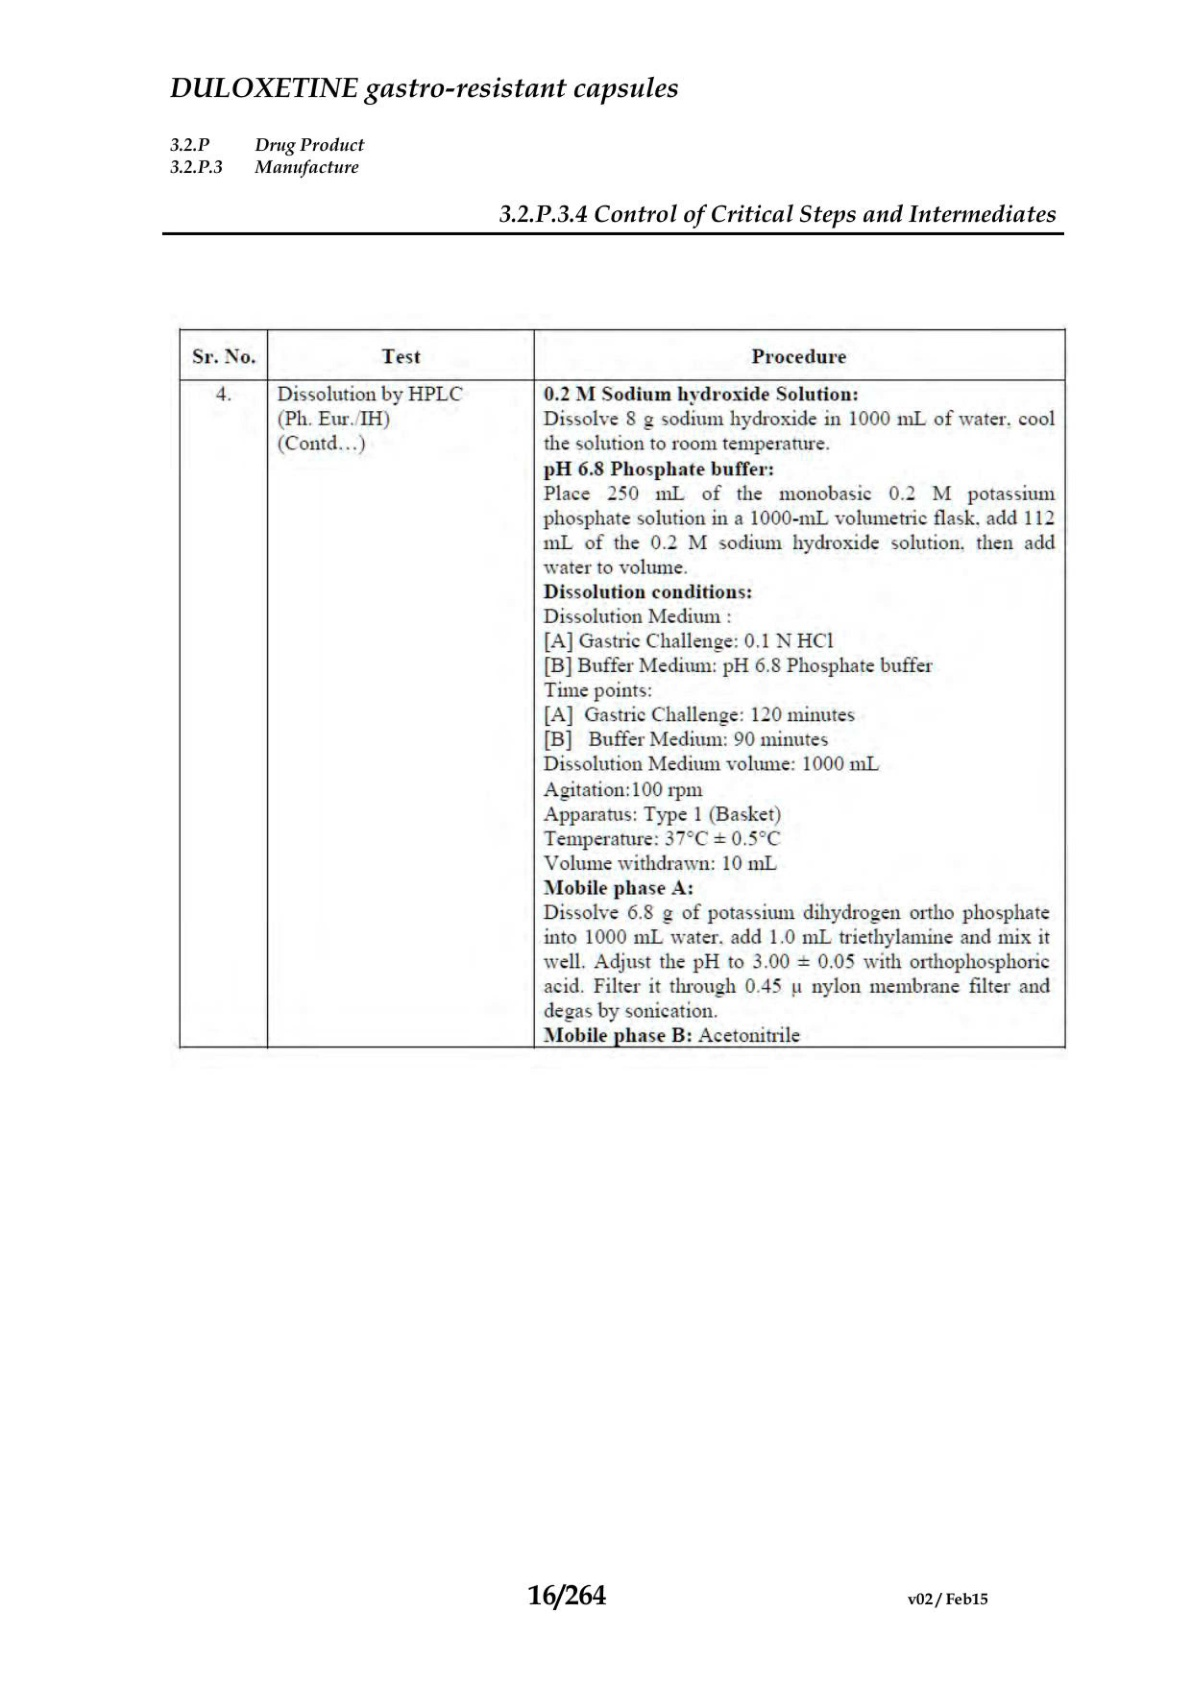full_lined: (177, 328, 1067, 1049)
